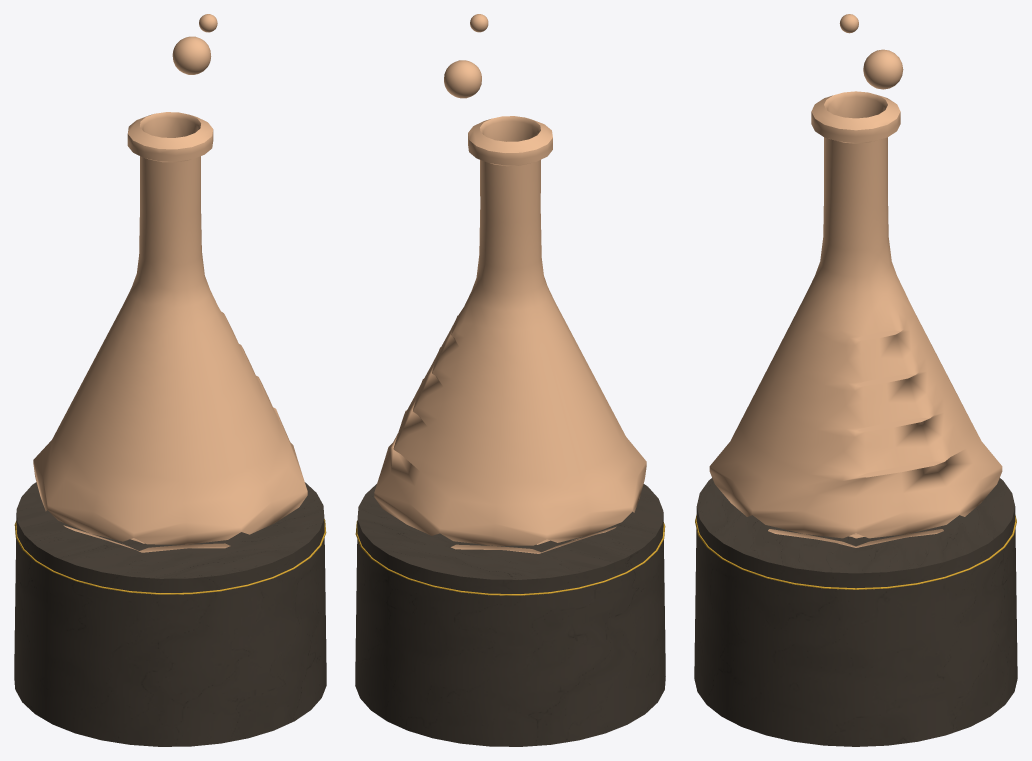
File: chemistry.glb
3 views of the same model, side by side, from view 1: azimuth 30°, elevation 25°; view 2: azimuth 150°, elevation 25°; view 3: azimuth 270°, elevation 25° (orthographic). The views are drawn at different scales.
Visible parts, largest first — view 1: marble_column, Beaker_Icosphere, gold_inlay_ring; view 2: marble_column, Beaker_Icosphere, gold_inlay_ring; view 3: marble_column, Beaker_Icosphere, gold_inlay_ring.
Part boxes in pixels (box(x1,y1,x2,y2)): marble_column: box(14, 482, 326, 746); Beaker_Icosphere: box(33, 14, 307, 552); gold_inlay_ring: box(14, 519, 326, 594); marble_column: box(355, 484, 665, 746); Beaker_Icosphere: box(374, 14, 646, 553); gold_inlay_ring: box(355, 521, 665, 595); marble_column: box(694, 478, 1017, 746); Beaker_Icosphere: box(709, 14, 1002, 547); gold_inlay_ring: box(695, 515, 1016, 589).
Size of the model in its own units: 0.4302 by 1 by 0.4302.
5 materials, 1 textured.
